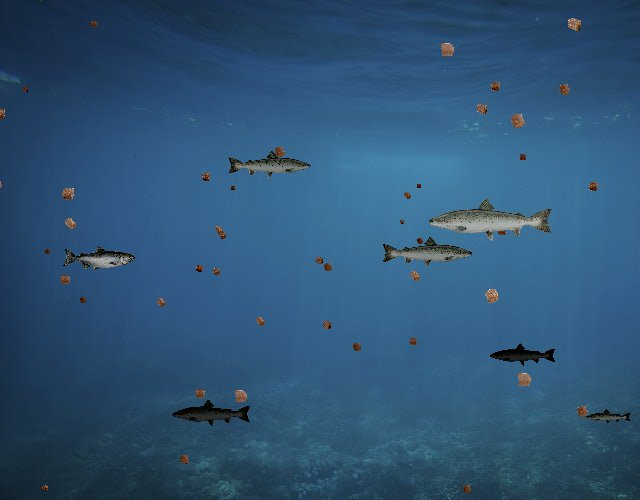Fish: (426, 196, 555, 242), (381, 236, 475, 270), (226, 149, 312, 180), (171, 398, 252, 427), (63, 246, 136, 272), (490, 343, 558, 367), (585, 408, 632, 425)
Pellet: (58, 211, 83, 236), (570, 400, 594, 424), (457, 480, 476, 499), (38, 481, 52, 495), (19, 83, 31, 95)
